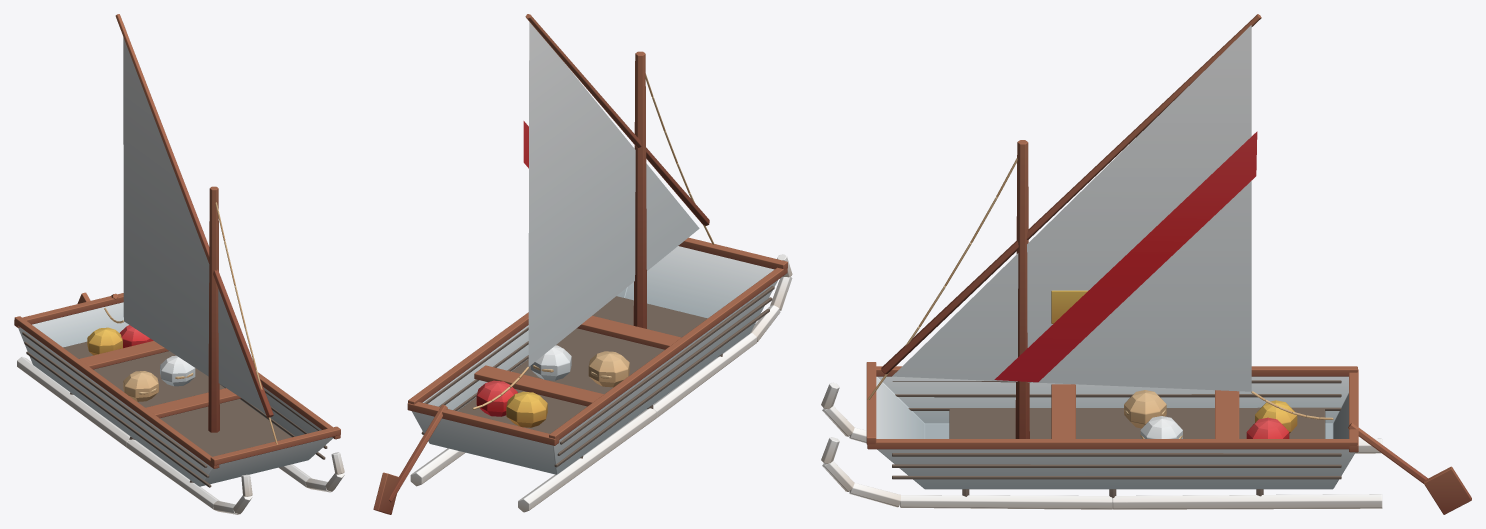
Rendered from sand_skiff.glb.
3 views of the same model, side by side, from view 1: azimuth 30°, elevation 25°; view 2: azimuth 150°, elevation 25°; view 3: azimuth 270°, elevation 25° (orthographic). The views are drawn at different scales.
Parts seen in each view (by area): view 1: sand_skiff; view 2: sand_skiff; view 3: sand_skiff.
Boxes of the visible parts, x1,y1,x2,y2 form: sand_skiff: (14,14,344,514); sand_skiff: (373,14,792,514); sand_skiff: (821,14,1471,514).
Bounding box in the file's own units: 2.2 × 6.38 × 7.96.
1 material, 1 textured.
